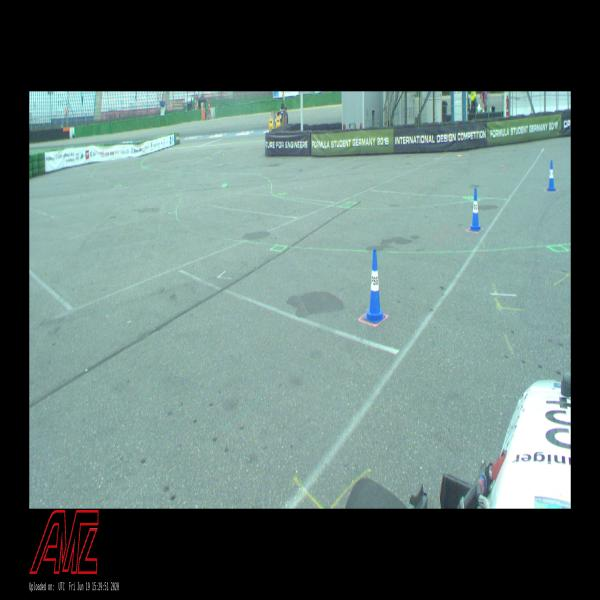blue_cone: (364, 250, 385, 323), (469, 189, 481, 230), (548, 161, 556, 191)
